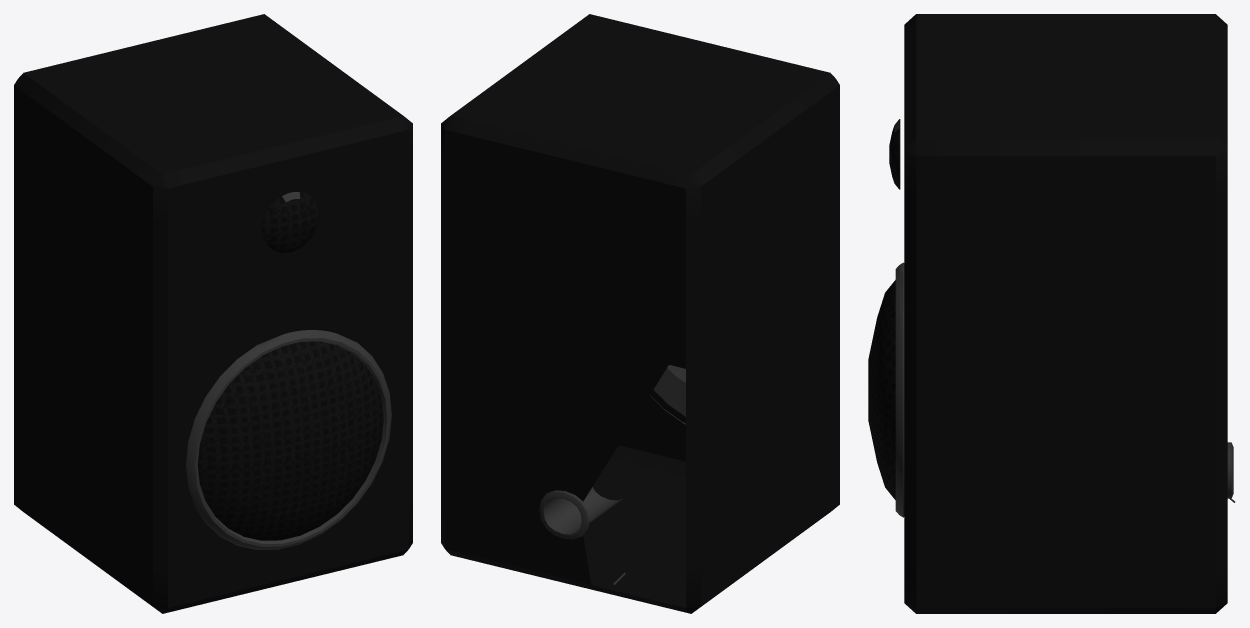
Rendered from Speaker.glb.
The picture shows the model from 3 angles, left to right: view 1: azimuth 30°, elevation 25°; view 2: azimuth 150°, elevation 25°; view 3: azimuth 270°, elevation 25°; orthographic projection. The views are drawn at different scales.
Visible parts, largest first — view 1: Mesh (2); view 2: Mesh (2); view 3: Mesh (2).
Part boxes in pixels (x1,y1,x2,y2): Mesh (2): (14,14,412,613); Mesh (2): (441,14,839,613); Mesh (2): (868,14,1235,613).
Bounding box in the file's own units: 0.82 × 1.33 × 0.9311.
5 materials, 1 textured.
